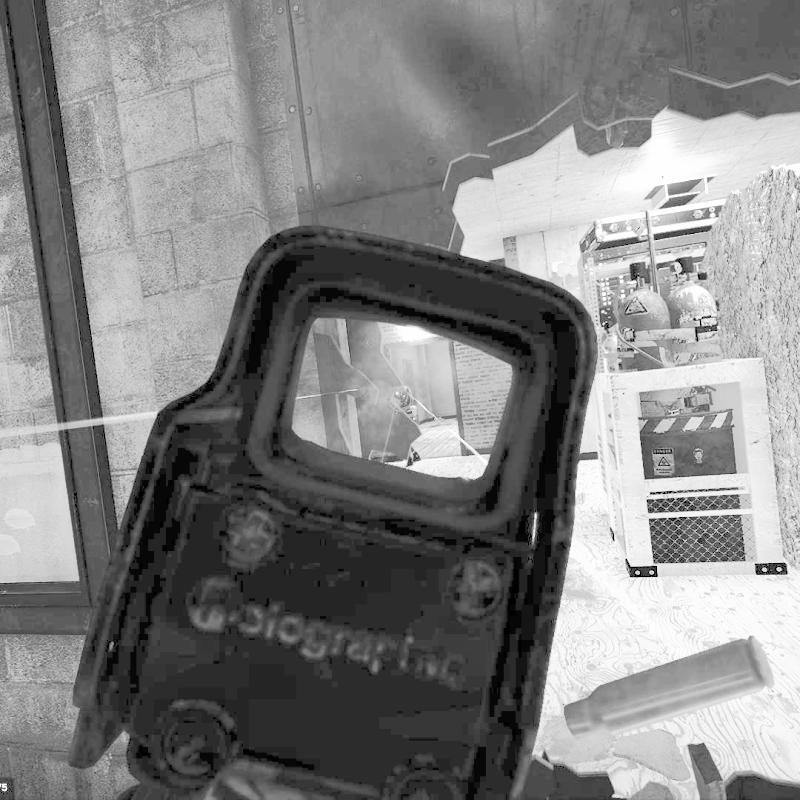Character: (394, 384, 422, 467)
